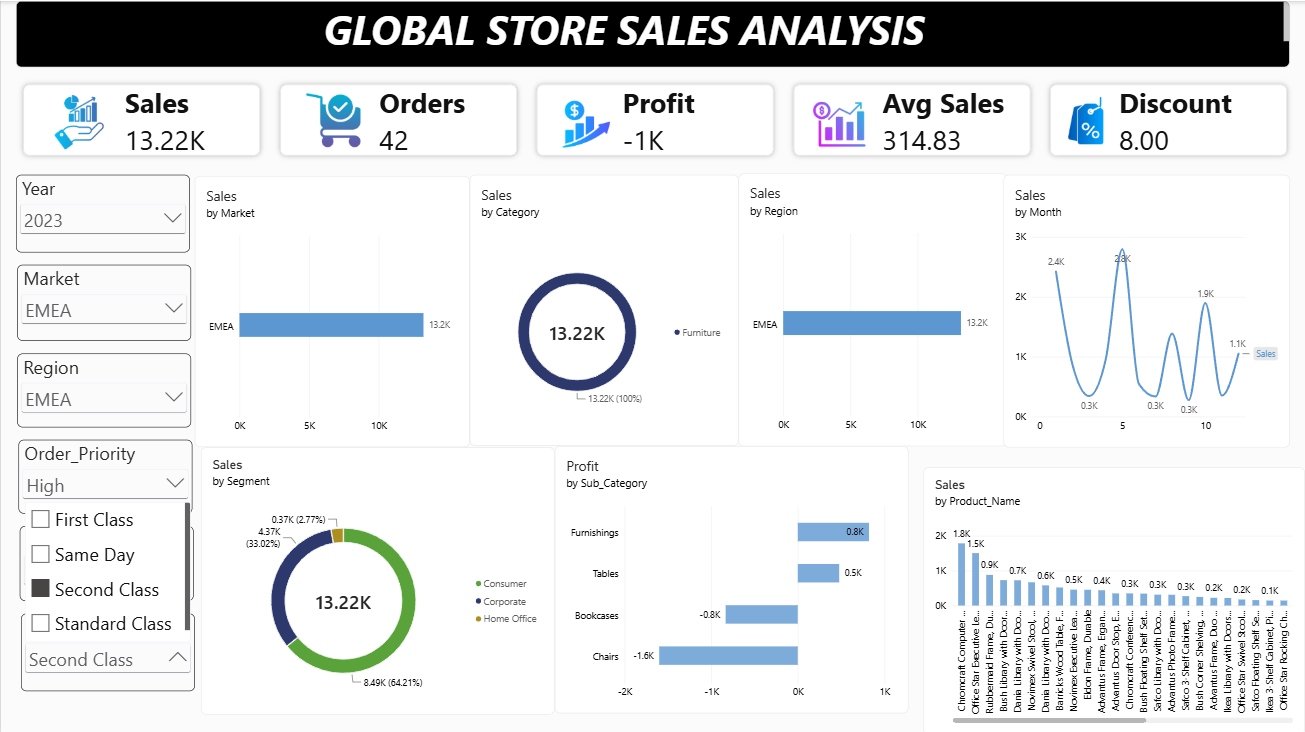

What the dashboard file says about the page in this screenshot:
{"tool":"powerbi","page":{"name":"Page 1","canvas":[1920,1080],"ordinal":4},"visuals":[{"type":"textbox","box":[22.1,0,1875.5,97.5],"z":0},{"type":"slicer","fields":{"Values":["calender.month end date.Variation.Date Hierarchy.Year"]},"box":[22.1,255.8,255.8,114.1],"z":5000},{"type":"slicer","fields":{"Values":["gss_cci.Market"]},"box":[23.9,388.3,255.8,112.3],"z":6000},{"type":"slicer","fields":{"Values":["Orders.Ship_Mode"]},"box":[29.4,901.8,255.8,114.1],"z":7000},{"type":"slicer","fields":{"Values":["gss_cci.Category"]},"box":[27.6,773,255.8,110.4],"z":8000},{"type":"slicer","fields":{"Values":["gss_cci.Order_Priority"]},"box":[25.8,646,255.8,108.6],"z":9000},{"type":"slicer","fields":{"Values":["gss_cci.Region"]},"box":[23.9,519,255.8,108.6],"z":10000},{"type":"cardVisual","fields":{"Data":["MEASURE#.TOTAL SALES","MEASURE#.TOTAL ORDERS","MEASURE#.TOTAL PROFIT","MEASURE#.AVERAGE SALES","MEASURE#.TOTAL DISCOUNT"]},"box":[22.1,112.3,1886.5,127],"z":11000},{"type":"clusteredBarChart","fields":{"Category":["gss_cci.Market"],"Y":["MEASURE#.TOTAL SALES"]},"box":[285.7,257.5,404.9,399.4],"z":21001},{"type":"donutChart","fields":{"Category":["gss_cci.Category"],"Y":["MEASURE#.TOTAL SALES"]},"box":[690.2,255.8,395.7,399.4],"z":21003},{"type":"clusteredBarChart","fields":{"Category":["gss_cci.Region"],"Y":["MEASURE#.TOTAL SALES"]},"box":[1085.9,255.8,395.7,401.2],"z":21006},{"type":"lineChart","fields":{"Category":["calender.FY MONTH"],"Y":["MEASURE#.TOTAL SALES"]},"box":[1476.1,255.8,421.5,401.2],"z":21007},{"type":"clusteredBarChart","fields":{"Category":["gss_cci.Sub_Category"],"Y":["Sum(gss_cci.Profit)"]},"box":[815.3,655.2,520.9,393.9],"z":21008},{"type":"donutChart","fields":{"Category":["gss_cci.Segment"],"Y":["MEASURE#.TOTAL SALES"]},"box":[294.3,657.9,520.9,393.9],"z":21009},{"type":"clusteredColumnChart","fields":{"Category":["gss_cci.Product_Name"],"Y":["Sum(gss_cci.Sales)"]},"box":[1336.2,657.1,561.4,393.9],"z":21010}]}

Visuals, with their boxes in screenshot pixels (x1, y1, x2, y2), scaled from the page's 1920x1080 canvas onto the 1305x732 screenshot:
textbox: l=15, t=0, r=1290, b=66
slicer - calender.month end date.Variation.Date Hierarchy.Year: l=15, t=173, r=189, b=251
slicer - gss_cci.Market: l=16, t=263, r=190, b=339
slicer - Orders.Ship_Mode: l=20, t=611, r=194, b=689
slicer - gss_cci.Category: l=19, t=524, r=193, b=599
slicer - gss_cci.Order_Priority: l=18, t=438, r=191, b=511
slicer - gss_cci.Region: l=16, t=352, r=190, b=425
cardVisual - MEASURE#.TOTAL SALES x MEASURE#.TOTAL ORDERS: l=15, t=76, r=1297, b=162
clusteredBarChart - gss_cci.Market x MEASURE#.TOTAL SALES: l=194, t=175, r=469, b=445
donutChart - gss_cci.Category x MEASURE#.TOTAL SALES: l=469, t=173, r=738, b=444
clusteredBarChart - gss_cci.Region x MEASURE#.TOTAL SALES: l=738, t=173, r=1007, b=445
lineChart - calender.FY MONTH x MEASURE#.TOTAL SALES: l=1003, t=173, r=1290, b=445
clusteredBarChart - gss_cci.Sub_Category x Sum(gss_cci.Profit): l=554, t=444, r=908, b=711
donutChart - gss_cci.Segment x MEASURE#.TOTAL SALES: l=200, t=446, r=554, b=713
clusteredColumnChart - gss_cci.Product_Name x Sum(gss_cci.Sales): l=908, t=445, r=1290, b=712
